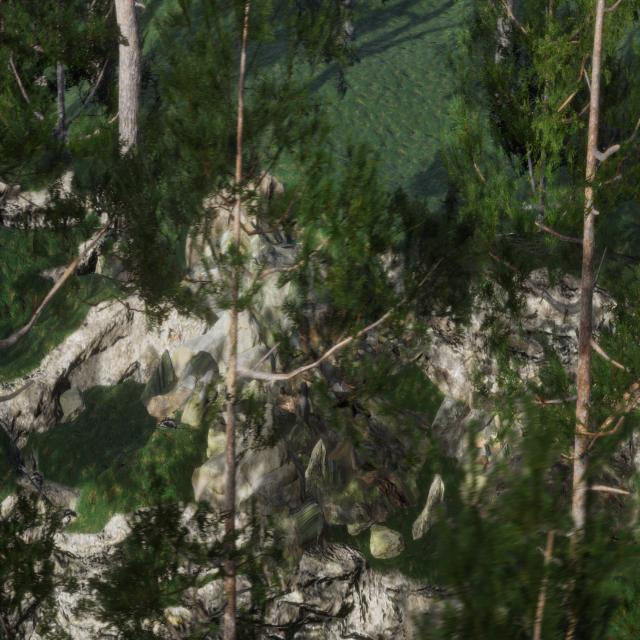Human: (294, 375, 316, 444)
